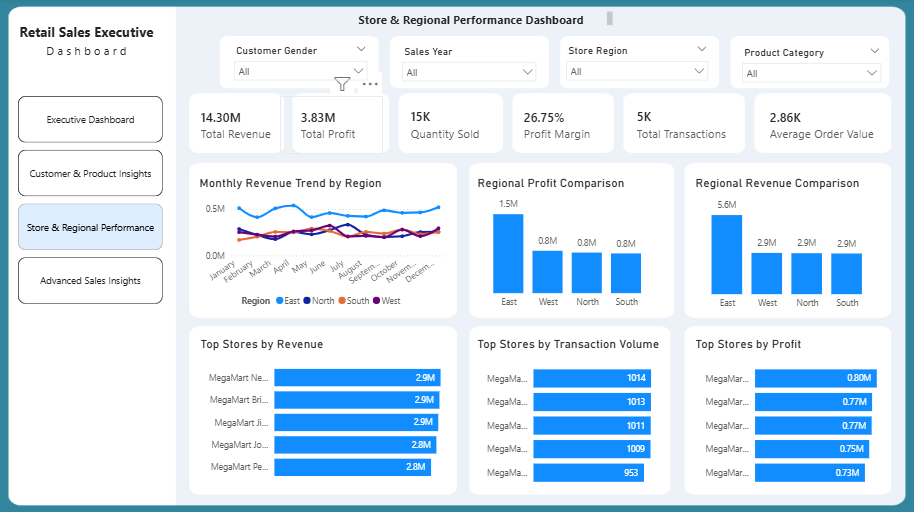

The dashboard page shown, as its layout file describes it:
{"tool":"powerbi","page":{"name":"Store & Regional Performance","canvas":[1280,720],"ordinal":2},"visuals":[{"type":"cardVisual","fields":{"Data":["retail_sales_view.Total Revenue"]},"box":[254,137.1,163.3,80.9],"z":0},{"type":"cardVisual","fields":{"Data":["retail_sales_view.Total Profit"]},"box":[393.5,137.1,143.7,80.9],"z":1000},{"type":"cardVisual","fields":{"Data":["retail_sales_view.Quantity Sold"]},"box":[547,134.3,166,83.7],"z":2000},{"type":"cardVisual","fields":{"Data":["retail_sales_view.Profit Margin"]},"box":[704.7,137.1,157.7,80.9],"z":3000},{"type":"cardVisual","fields":{"Data":["retail_sales_view.Total Transactions"]},"box":[862.3,134.3,185.6,83.7],"z":4000},{"type":"cardVisual","fields":{"Data":["retail_sales_view.Average Order Value"]},"box":[1047.9,137.1,206.5,80.9],"z":5000},{"type":"slicer","fields":{"Values":["retail_sales_view.Date.Variation.Date Hierarchy.Year"]},"box":[553.8,61,207.5,58],"z":6000},{"type":"slicer","fields":{"Values":["retail_sales_view.Category"]},"box":[1028.3,62.6,213.6,62.6],"z":7000},{"type":"slicer","fields":{"Values":["retail_sales_view.Region"]},"box":[782.6,59.5,218.2,67.1],"z":8000},{"type":"slicer","fields":{"Values":["retail_sales_view.Gender"]},"box":[318.9,59.5,206,62.6],"z":9000},{"type":"textbox","box":[16.8,29,213.6,71.7],"z":10000},{"type":"textbox","box":[465.3,13.4,398.1,30.2],"z":11000},{"type":"pageNavigator","box":[27.5,137.3,202.9,292.9],"z":12000},{"type":"columnChart","title":"Regional Revenue Comparison","fields":{"Category":["retail_sales_view.Region"],"Y":["retail_sales_view.Total Revenue"]},"box":[968.7,248.7,266.2,194.9],"z":13000},{"type":"columnChart","title":"Regional Profit Comparison","fields":{"Category":["retail_sales_view.Region"],"Y":["retail_sales_view.Total Profit"]},"box":[664.7,248.7,261.8,193.5],"z":14000},{"type":"clusteredBarChart","title":"Top Stores by Transaction Volume","fields":{"Category":["retail_sales_view.StoreName"],"Y":["retail_sales_view.Total Transactions"]},"box":[664.7,472.7,279.3,221.1],"z":15000},{"type":"clusteredBarChart","title":"Top Stores by Revenue","fields":{"Category":["retail_sales_view.StoreName"],"Y":["retail_sales_view.Total Revenue"]},"box":[277.8,472.7,381.1,212.4],"z":16000},{"type":"clusteredBarChart","title":"Top Stores by Profit","fields":{"Category":["retail_sales_view.StoreName"],"Y":["retail_sales_view.Total Profit"]},"box":[968.7,472.7,298.2,221.1],"z":17000},{"type":"lineChart","title":"Monthly Revenue Trend by Region","fields":{"Category":["retail_sales_view.Date.Variation.Date Hierarchy.Month"],"Series":["retail_sales_view.Region"],"Y":["retail_sales_view.Total Revenue"]},"box":[276.4,248.7,353.5,192],"z":18000}]}

Visuals, with their boxes on the page's 1280x720 design canvas (x1, y1, x2, y2). These are canvas units, not pixel positions in the 914x512 screenshot, which may show the page scaled, cropped or inside an application window:
cardVisual - retail_sales_view.Total Revenue: {"left": 254, "top": 137, "right": 417, "bottom": 218}
cardVisual - retail_sales_view.Total Profit: {"left": 394, "top": 137, "right": 537, "bottom": 218}
cardVisual - retail_sales_view.Quantity Sold: {"left": 547, "top": 134, "right": 713, "bottom": 218}
cardVisual - retail_sales_view.Profit Margin: {"left": 705, "top": 137, "right": 862, "bottom": 218}
cardVisual - retail_sales_view.Total Transactions: {"left": 862, "top": 134, "right": 1048, "bottom": 218}
cardVisual - retail_sales_view.Average Order Value: {"left": 1048, "top": 137, "right": 1254, "bottom": 218}
slicer - retail_sales_view.Date.Variation.Date Hierarchy.Year: {"left": 554, "top": 61, "right": 761, "bottom": 119}
slicer - retail_sales_view.Category: {"left": 1028, "top": 63, "right": 1242, "bottom": 125}
slicer - retail_sales_view.Region: {"left": 783, "top": 60, "right": 1001, "bottom": 127}
slicer - retail_sales_view.Gender: {"left": 319, "top": 60, "right": 525, "bottom": 122}
textbox: {"left": 17, "top": 29, "right": 230, "bottom": 101}
textbox: {"left": 465, "top": 13, "right": 863, "bottom": 44}
pageNavigator: {"left": 28, "top": 137, "right": 230, "bottom": 430}
"Regional Revenue Comparison" columnChart: {"left": 969, "top": 249, "right": 1235, "bottom": 444}
"Regional Profit Comparison" columnChart: {"left": 665, "top": 249, "right": 926, "bottom": 442}
"Top Stores by Transaction Volume" clusteredBarChart: {"left": 665, "top": 473, "right": 944, "bottom": 694}
"Top Stores by Revenue" clusteredBarChart: {"left": 278, "top": 473, "right": 659, "bottom": 685}
"Top Stores by Profit" clusteredBarChart: {"left": 969, "top": 473, "right": 1267, "bottom": 694}
"Monthly Revenue Trend by Region" lineChart: {"left": 276, "top": 249, "right": 630, "bottom": 441}
